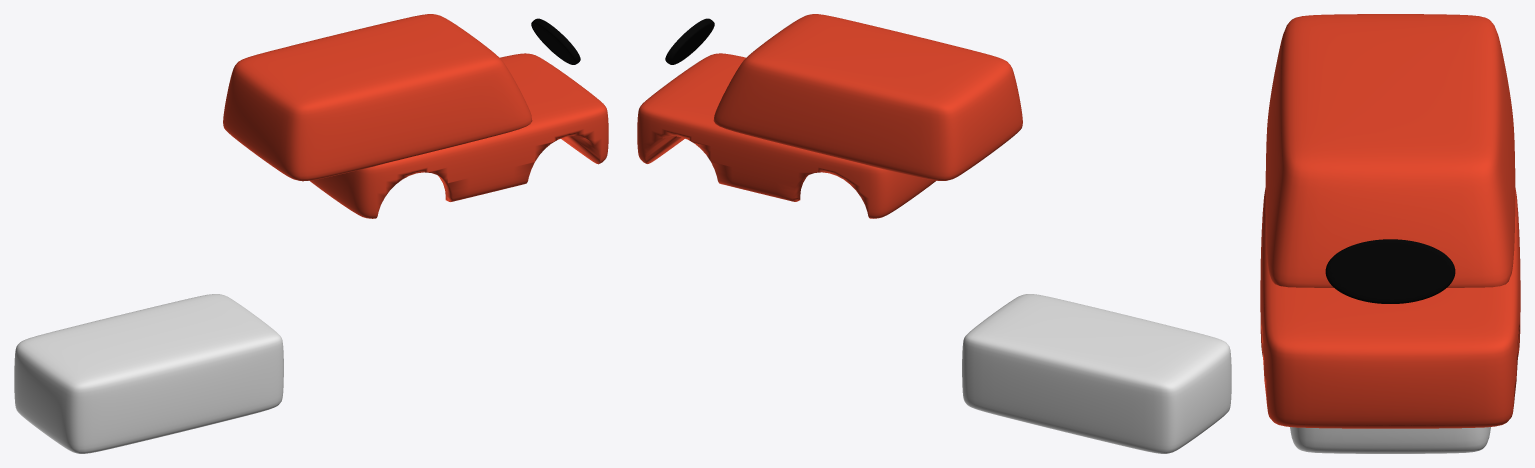
The model's file is CarFrame.fbx.
The picture shows the model from 3 angles, left to right: view 1: azimuth 30°, elevation 25°; view 2: azimuth 150°, elevation 25°; view 3: azimuth 270°, elevation 25°; orthographic projection. The views are drawn at different scales.
Visible parts, largest first — view 1: 立方体.001, 立方体.003, 立方体.002, 円柱.001; view 2: 立方体.001, 立方体.003, 立方体.002, 円柱.001; view 3: 立方体.001, 立方体.002, 円柱.001, 立方体.003.
Part boxes in pixels (box(x1,y1,x2,y2)): 立方体.001: box(223, 14, 532, 181); 立方体.003: box(14, 294, 283, 453); 立方体.002: box(309, 53, 608, 218); 円柱.001: box(531, 18, 580, 64); 立方体.001: box(713, 14, 1022, 180); 立方体.003: box(962, 294, 1231, 453); 立方体.002: box(637, 53, 936, 218); 円柱.001: box(665, 18, 714, 64); 立方体.001: box(1265, 14, 1515, 287); 立方体.002: box(1260, 188, 1520, 428); 円柱.001: box(1325, 239, 1455, 303); 立方体.003: box(1290, 427, 1490, 453).
Bounding box in the file's own units: 14.51 × 7.78 × 3.97.
